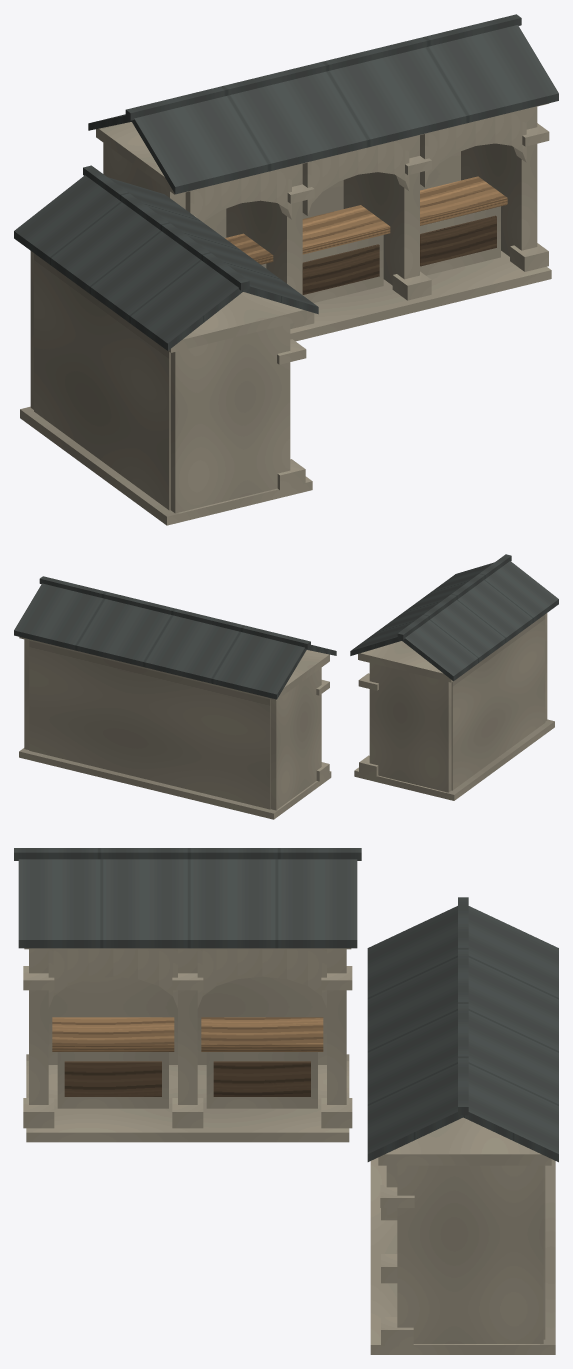
File: castries.glb
3 views of the same model, one above another, from view 1: azimuth 30°, elevation 25°; view 2: azimuth 150°, elevation 25°; view 3: azimuth 270°, elevation 25° (orthographic). The views are drawn at different scales.
Parts seen in each view (by area): view 1: castries; view 2: castries; view 3: castries.
Part boxes in pixels (left/top/right/bottom): castries: left=14, top=14, right=558, bottom=525; castries: left=14, top=554, right=558, bottom=819; castries: left=14, top=848, right=558, bottom=1354.
Bounding box in the file's own units: 6.3 × 2.5 × 4.88.
1 material, 1 textured.
